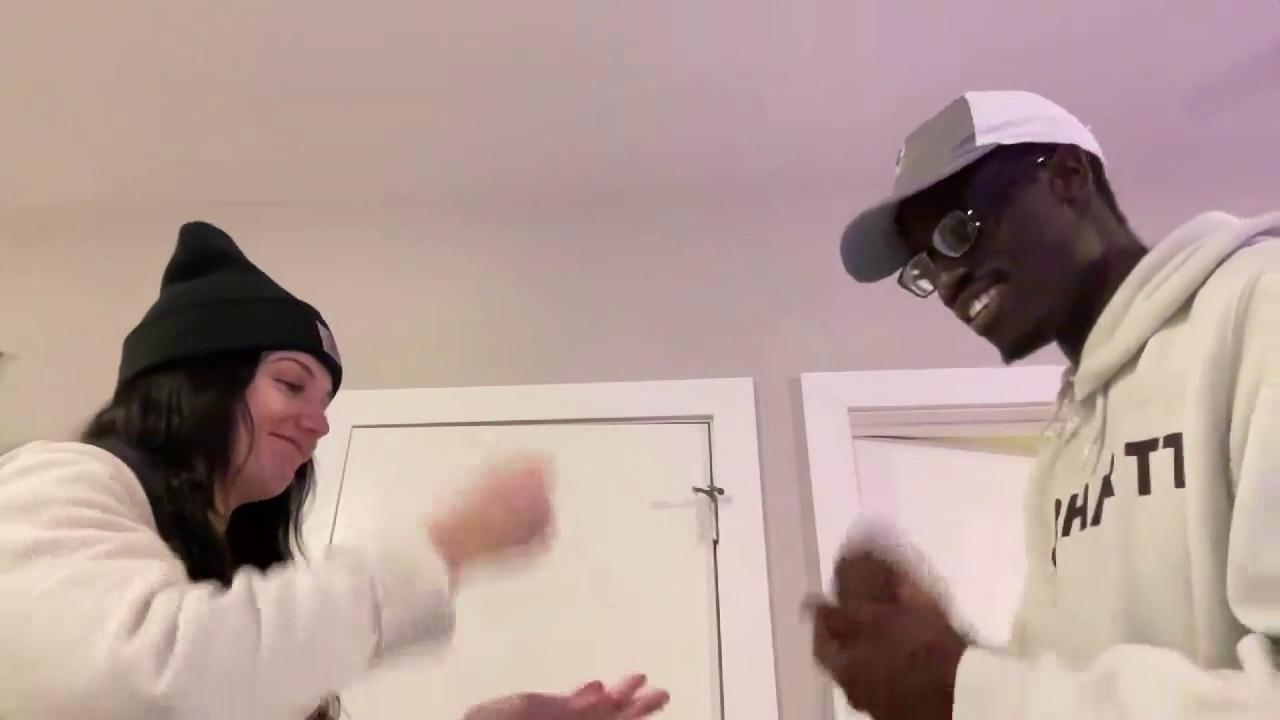Rock: (437, 460, 560, 565), (838, 530, 923, 610)
